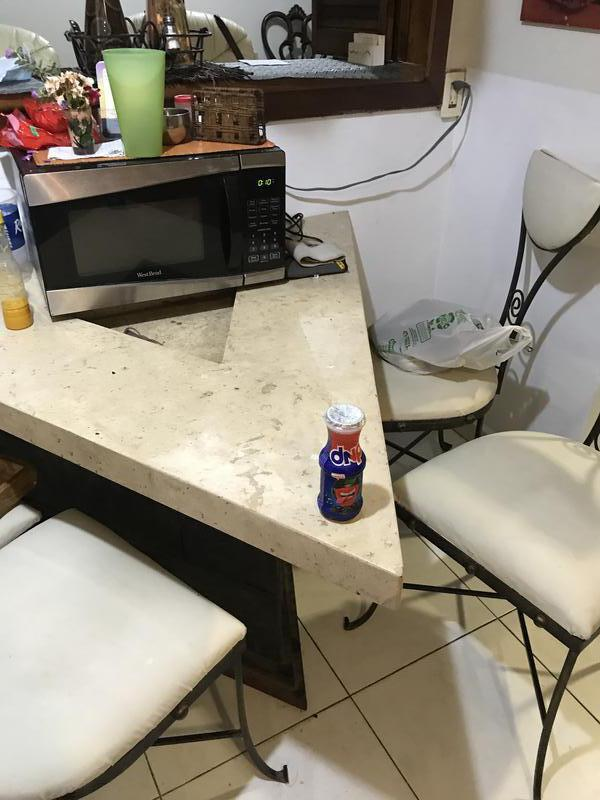danup: (315, 405, 367, 522)
